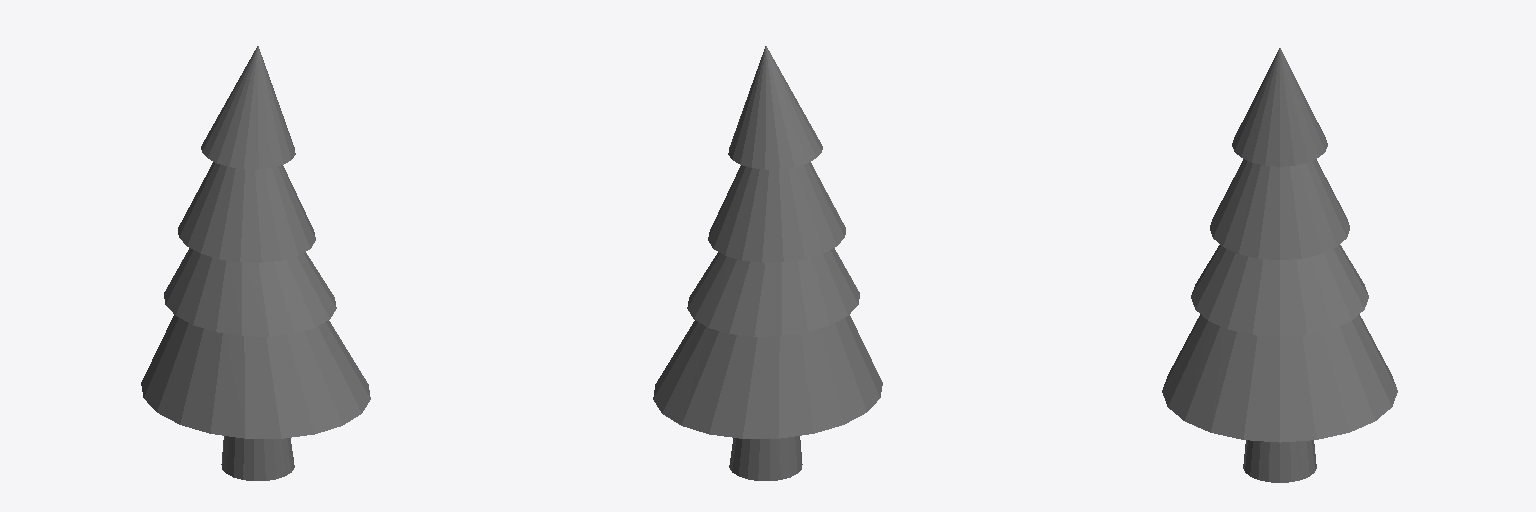
The model's file is pine_Tree2.obj.
The picture shows the model from 3 angles: view 1: azimuth 30°, elevation 25°; view 2: azimuth 150°, elevation 25°; view 3: azimuth 270°, elevation 25°; orthographic projection.
Visible parts, largest first — view 1: pine_Tree2:pCylinder1 pine_Tree2:polySurface2 pine_Tree2:polySur; view 2: pine_Tree2:pCylinder1 pine_Tree2:polySurface2 pine_Tree2:polySur; view 3: pine_Tree2:pCylinder1 pine_Tree2:polySurface2 pine_Tree2:polySur.
Boxes of the visible parts, x1=… form: pine_Tree2:pCylinder1 pine_Tree2:polySurface2 pine_Tree2:polySur: x1=141, y1=46, x2=370, y2=480; pine_Tree2:pCylinder1 pine_Tree2:polySurface2 pine_Tree2:polySur: x1=653, y1=46, x2=882, y2=480; pine_Tree2:pCylinder1 pine_Tree2:polySurface2 pine_Tree2:polySur: x1=1162, y1=48, x2=1397, y2=482.
Size of the model in its own units: 62.08 by 126 by 63.99.